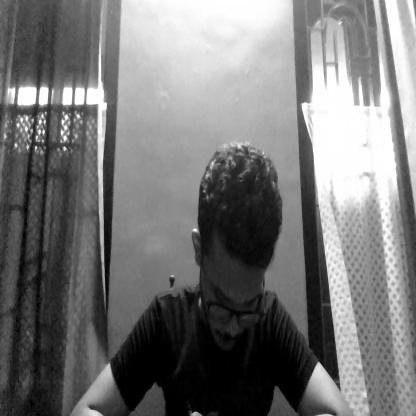Distracted: (196, 151, 284, 356)
